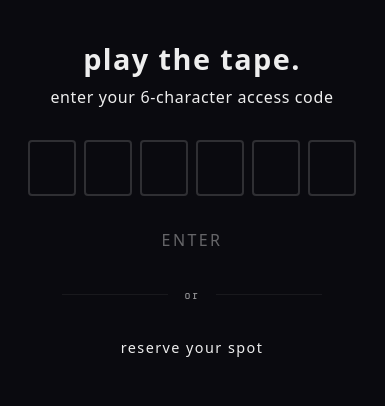
Test: AccessCodeEntry › shows error when code is not found
This screenshot has width=385, height=406.
Type "X" into the field named "Character 1".
click(52, 168); type("X")  # box [28,140,76,196]
Type "X" into the field named "Character 2".
click(108, 168); type("X")  # box [84,140,132,196]
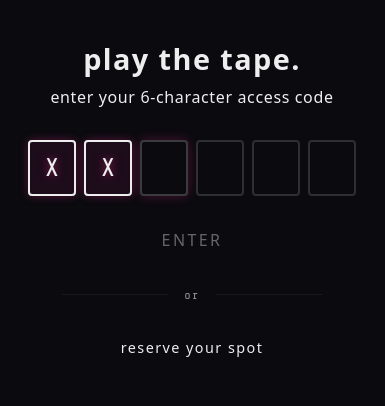
Type "X" into the field named "Character 3".
click(164, 168); type("X")  # box [140,140,188,196]
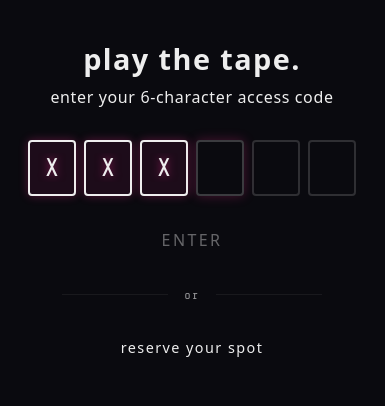
Type "X" into the field named "Character 4".
click(220, 168); type("X")  # box [196,140,244,196]
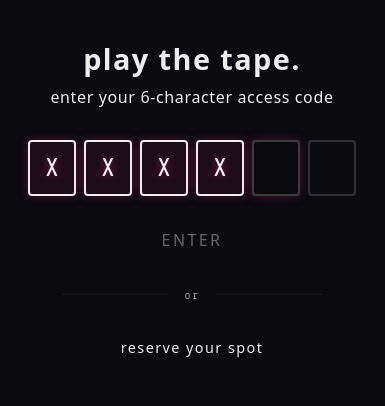
Type "X" into the field named "Character 5".
click(276, 168); type("X")  # box [252,140,300,196]
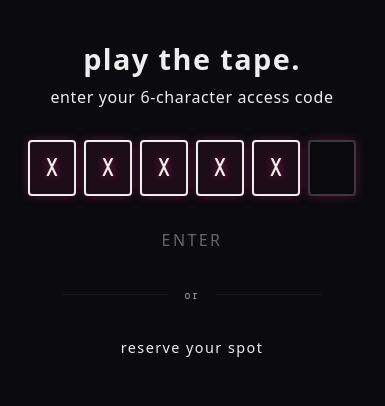
Type "X" into the field named "Character 6".
click(332, 168); type("X")  # box [308,140,356,196]
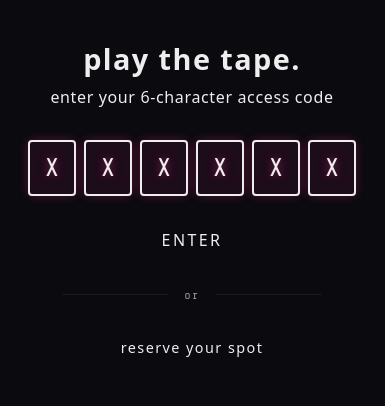
Click the button "ENTER".
click(192, 240)  # box [122,216,262,264]
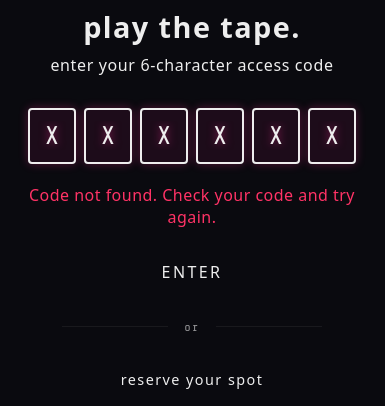
Expected: the text "Code not found. Check your code and try again." is shown, [16,184,368,228]
